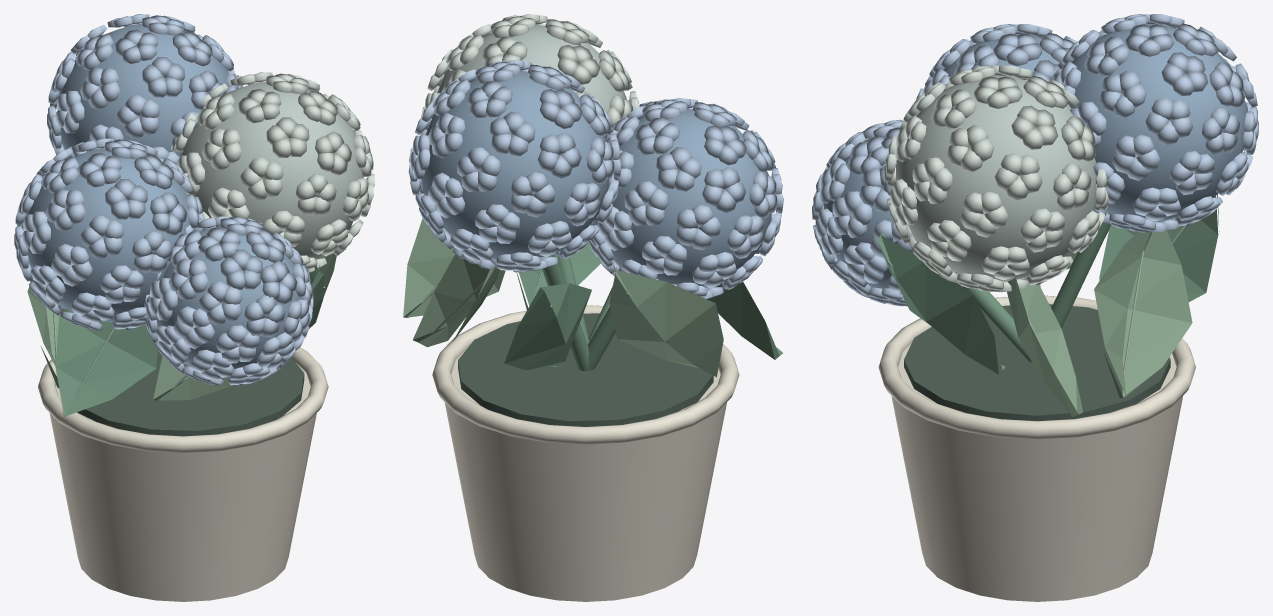
The model's file is v18_hydrangea.glb.
3 views of the same model, side by side, from view 1: azimuth 30°, elevation 25°; view 2: azimuth 150°, elevation 25°; view 3: azimuth 270°, elevation 25° (orthographic). The views are drawn at different scales.
Visible parts, largest first — view 1: _MeshInstance3D_2042, _MeshInstance3D_2061, _MeshInstance3D_2070, _MeshInstance3D_2064, _MeshInstance3D_2067, _MeshInstance3D_2063, _MeshInstance3D_2044, _MeshInstance3D_2060, _MeshInstance3D_2051, _MeshInstance3D_2066, _MeshInstance3D_2043, _MeshInstance3D_2069 (+3 smaller); view 2: _MeshInstance3D_2042, _MeshInstance3D_2067, _MeshInstance3D_2061, _MeshInstance3D_2044, _MeshInstance3D_2066, _MeshInstance3D_2060, _MeshInstance3D_2043, _MeshInstance3D_2053, _MeshInstance3D_2064, _MeshInstance3D_2055, _MeshInstance3D_2057, _MeshInstance3D_2045 (+5 smaller); view 3: _MeshInstance3D_2042, _MeshInstance3D_2064, _MeshInstance3D_2067, _MeshInstance3D_2044, _MeshInstance3D_2063, _MeshInstance3D_2057, _MeshInstance3D_2066, _MeshInstance3D_2070, _MeshInstance3D_2043, _MeshInstance3D_2047, _MeshInstance3D_2045, _MeshInstance3D_2061 (+5 smaller).
Part boxes in pixels (box(x1,y1,x2,y2)): _MeshInstance3D_2042: box(49, 363, 316, 601); _MeshInstance3D_2061: box(14, 138, 205, 330); _MeshInstance3D_2070: box(144, 216, 313, 385); _MeshInstance3D_2064: box(171, 72, 374, 273); _MeshInstance3D_2067: box(47, 14, 242, 164); _MeshInstance3D_2063: box(180, 81, 363, 258); _MeshInstance3D_2044: box(77, 349, 304, 436); _MeshInstance3D_2060: box(27, 148, 193, 321); _MeshInstance3D_2051: box(55, 308, 157, 416); _MeshInstance3D_2066: box(59, 23, 227, 156); _MeshInstance3D_2043: box(38, 347, 328, 452); _MeshInstance3D_2069: box(156, 226, 300, 369); _MeshInstance3D_2042: box(444, 348, 726, 601); _MeshInstance3D_2067: box(408, 60, 621, 272); _MeshInstance3D_2061: box(589, 98, 783, 299); _MeshInstance3D_2044: box(458, 313, 713, 426); _MeshInstance3D_2066: box(421, 70, 609, 259); _MeshInstance3D_2060: box(593, 108, 771, 287); _MeshInstance3D_2043: box(432, 305, 739, 444); _MeshInstance3D_2053: box(609, 266, 723, 377); _MeshInstance3D_2064: box(421, 14, 639, 127); _MeshInstance3D_2055: box(504, 283, 591, 370); _MeshInstance3D_2057: box(413, 254, 499, 347); _MeshInstance3D_2045: box(403, 218, 505, 317); _MeshInstance3D_2042: box(891, 343, 1182, 601); _MeshInstance3D_2064: box(884, 65, 1108, 292); _MeshInstance3D_2067: box(1048, 14, 1258, 232); _MeshInstance3D_2044: box(904, 304, 1170, 421); _MeshInstance3D_2063: box(896, 75, 1096, 281); _MeshInstance3D_2057: box(1094, 230, 1192, 398); _MeshInstance3D_2066: box(1068, 24, 1247, 221); _MeshInstance3D_2070: box(812, 119, 962, 306); _MeshInstance3D_2043: box(878, 295, 1195, 439); _MeshInstance3D_2047: box(877, 231, 1005, 374); _MeshInstance3D_2045: box(1007, 276, 1083, 416); _MeshInstance3D_2061: box(916, 24, 1076, 99).
Bounding box in the file's own units: 0.794 × 1.15 × 0.8671.
